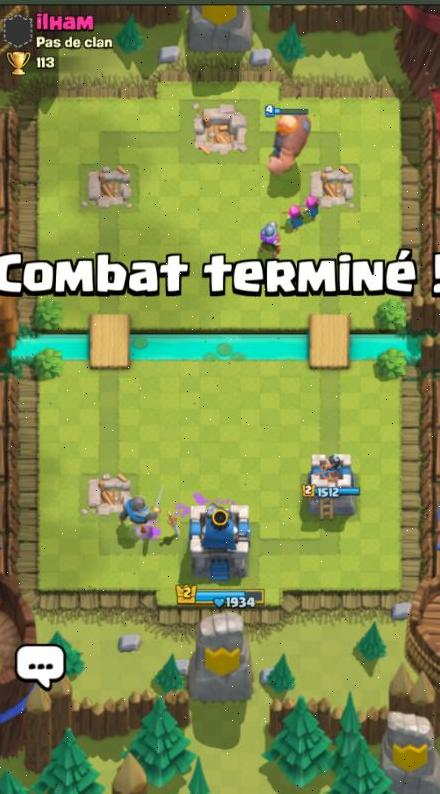player_archers: (282, 200, 306, 231), (300, 188, 324, 219)
player_giant: (260, 105, 314, 174)
player_knight: (114, 483, 166, 533)
player_musketeer: (254, 217, 284, 253)
